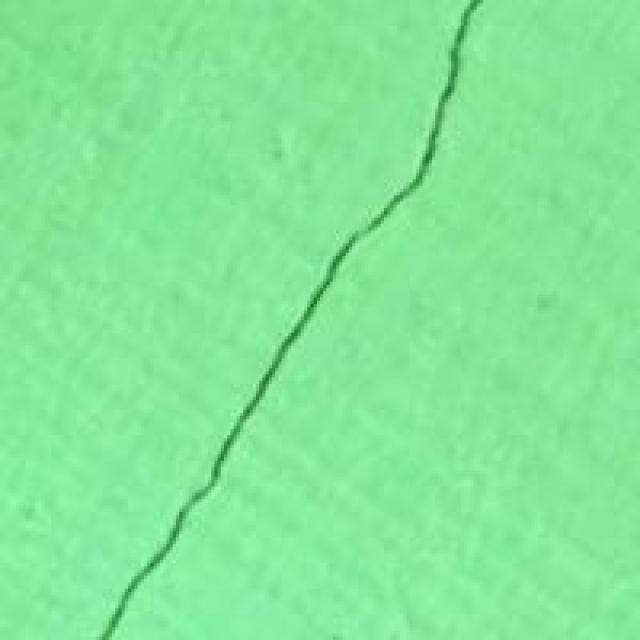crack: (96, 0, 486, 637)
